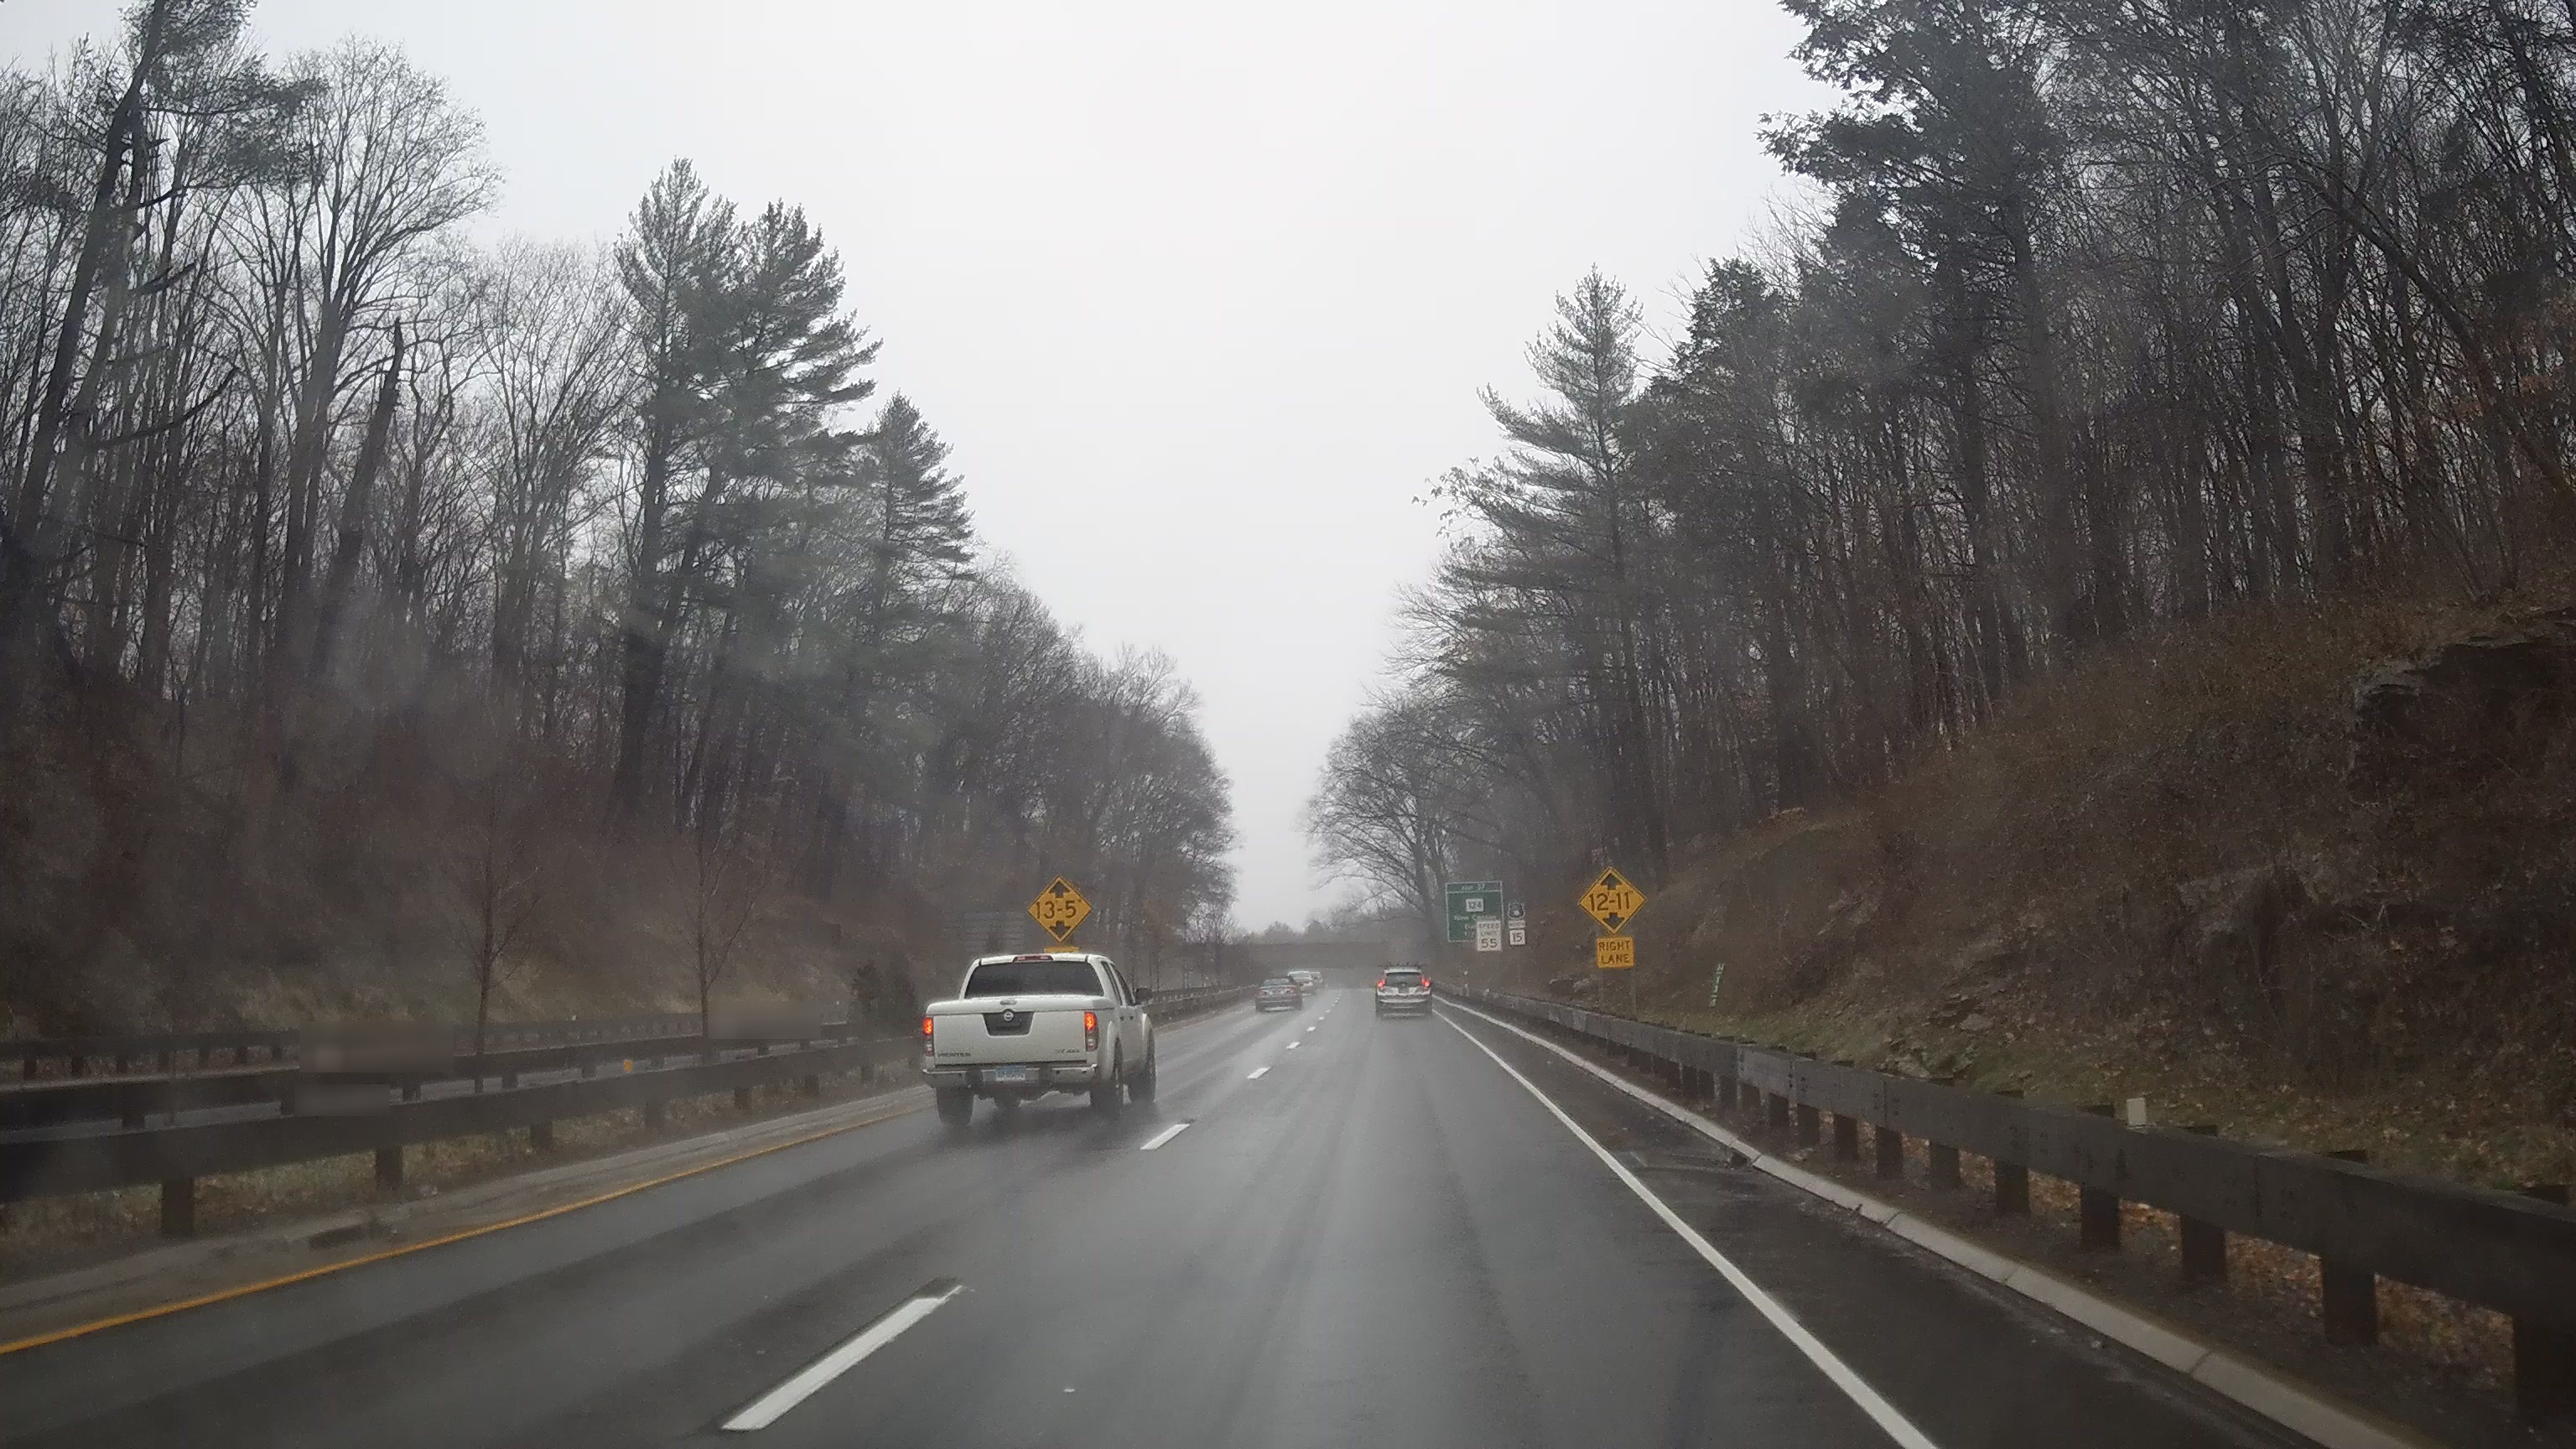low-clearance-sign: (1578, 865, 1649, 936), (1026, 874, 1095, 945)
